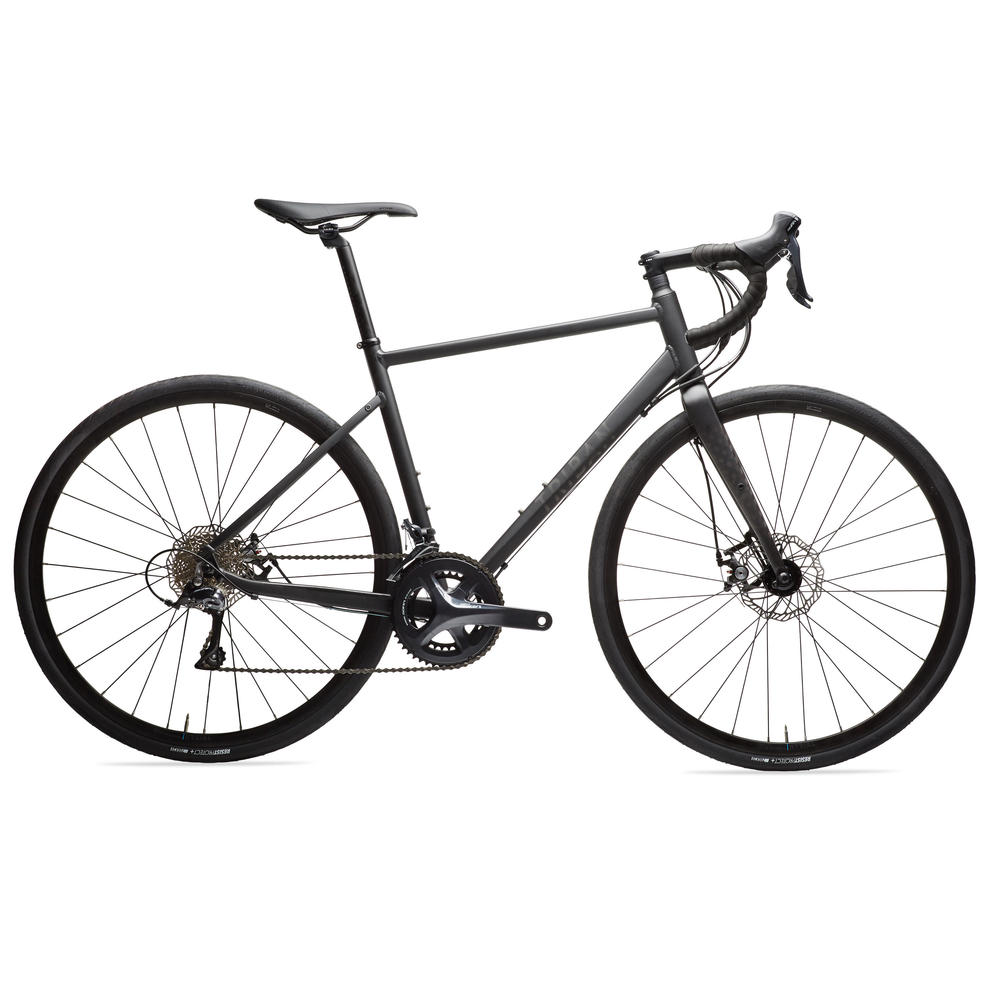RoadBike: (4, 188, 974, 782)
